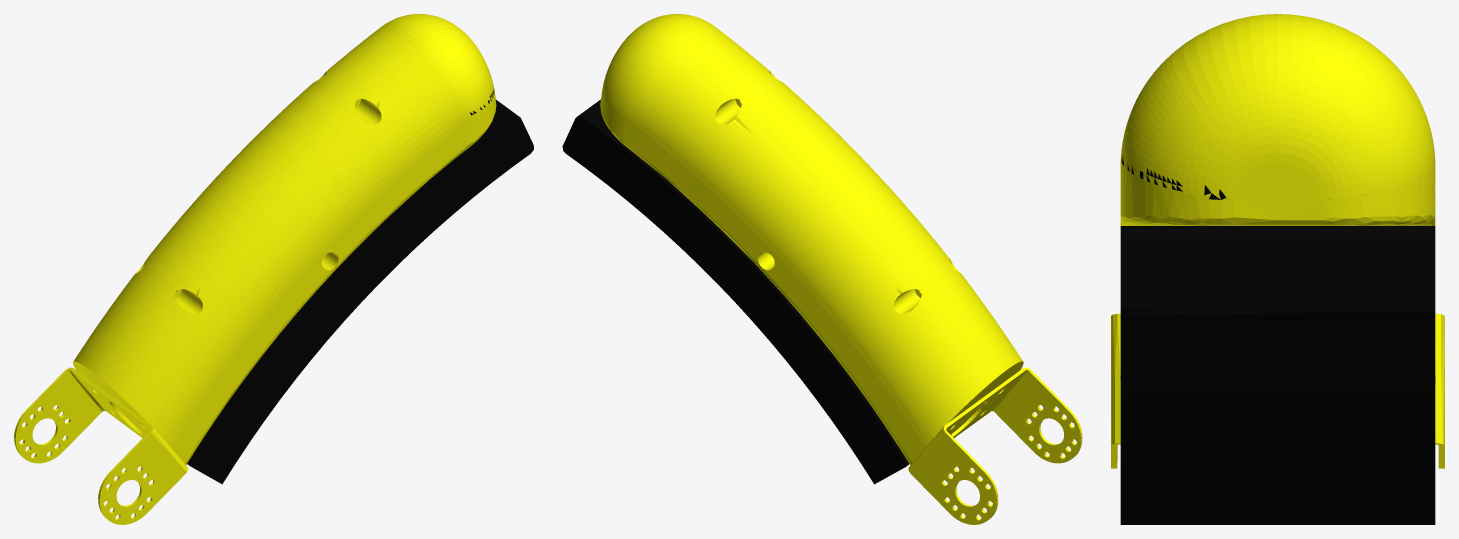
Rendered from hand_left_mini.dae.
3 renders of one model, left to right at view 1: azimuth 30°, elevation 25°; view 2: azimuth 150°, elevation 25°; view 3: azimuth 270°, elevation 25°, orthographic. The views are drawn at different scales.
Parts seen in each view (by area): view 1: node; view 2: node; view 3: node.
Boxes of the visible parts, x1,y1,x2,y2 form: node: [14, 14, 533, 524]; node: [562, 14, 1082, 524]; node: [1111, 14, 1444, 524].
Bounding box in the file's own units: 15.61 × 13.29 × 5.3.
1 material, 1 textured.
